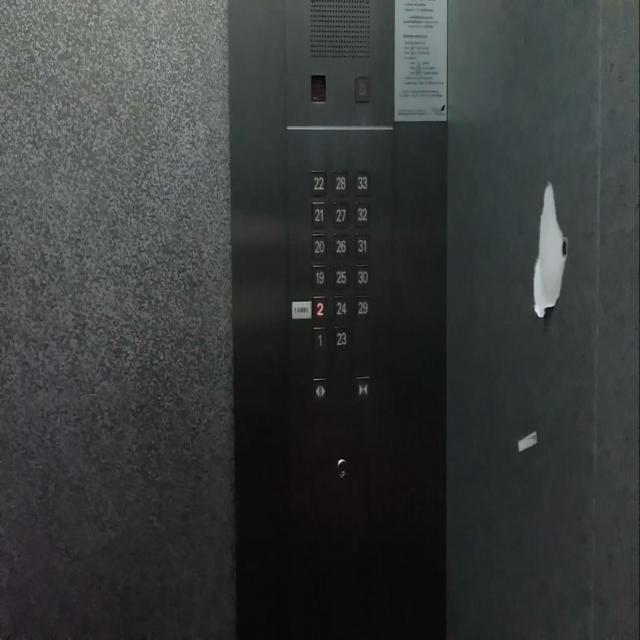1: (312, 325, 328, 353)
19: (311, 262, 327, 290)
2: (311, 293, 328, 322)
20: (311, 232, 328, 260)
21: (311, 200, 328, 228)
22: (310, 168, 327, 197)
23: (333, 323, 349, 352)
24: (333, 292, 349, 321)
25: (333, 262, 349, 290)
26: (333, 232, 349, 261)
27: (333, 201, 349, 229)
28: (332, 168, 349, 197)
29: (354, 293, 371, 322)
30: (354, 262, 370, 291)
31: (354, 230, 370, 258)
32: (354, 199, 370, 228)
33: (353, 168, 370, 197)
alarm: (353, 75, 371, 103)
close: (354, 374, 371, 403)
open: (312, 376, 328, 404)
unknown: (309, 72, 326, 102)
